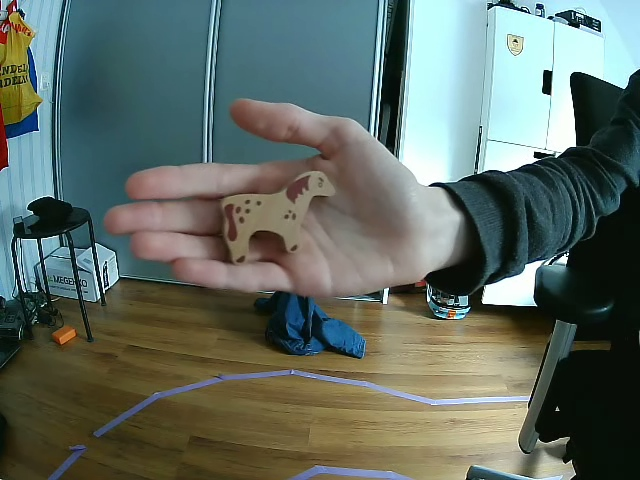paard: (218, 169, 331, 265)
